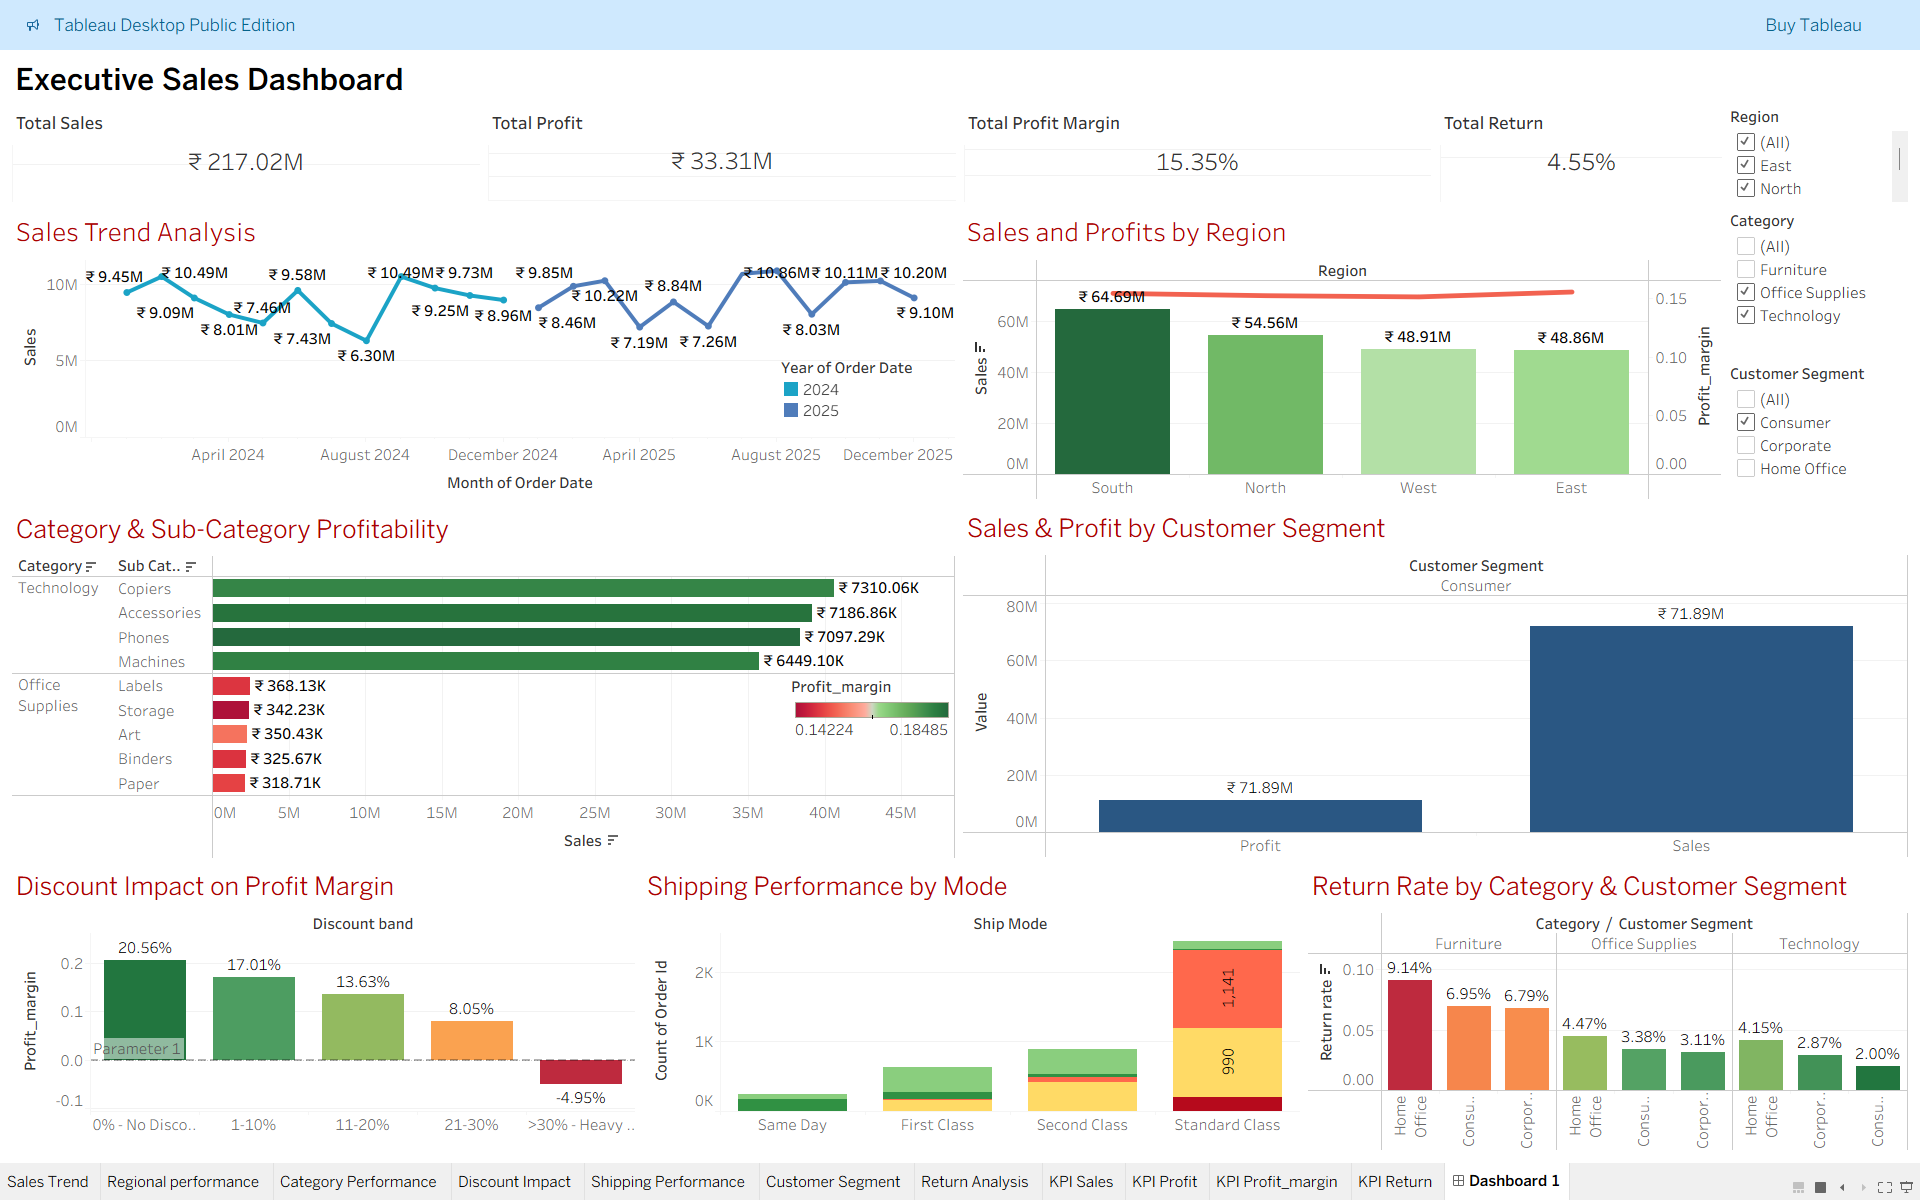

The dashboard page shown, as its layout file describes it:
{"tool":"tableau","page":{"name":"Dashboard 1","canvas":[1000,1000],"units":"permille","ordinal":0},"visuals":[{"type":"title","box":[4.8,8.7,990.3,47.8]},{"type":"worksheet","title":"KPI Sales","mark":"Text","rows":["sales"],"box":[4.8,56.5,247.4,92.6]},{"type":"worksheet","title":"KPI Profit","mark":"Text","rows":["profit"],"box":[252.2,56.5,247.6,92.6]},{"type":"worksheet","title":"KPI Profit_margin","mark":"Text","rows":["Calculation_2249892681052160"],"box":[499.8,56.5,247.6,92.6]},{"type":"worksheet","title":"KPI Return","mark":"Text","rows":["Calculation_2249892693778435"],"box":[747.4,56.5,151.2,92.6]},{"type":"filter","title":"Regional performance","param":"[federated.0f4fcf21ggcj2e115vujo1799w4p].[none:region:nk]","box":[898.6,56.5,96.6,92.6]},{"type":"worksheet","title":"Sales Trend","mark":"Line","rows":["sales"],"cols":["order_date"],"box":[4.8,149.1,494.8,264.9]},{"type":"worksheet","title":"Regional performance","mark":"Line","rows":["sales","Calculation_2249892681052160"],"cols":["region"],"box":[499.7,149.1,398.9,264.4]},{"type":"filter","title":"Category Performance","param":"[federated.0f4fcf21ggcj2e115vujo1799w4p].[none:category:nk]","box":[898.6,149.1,96.6,135.3]},{"type":"legend","title":"Sales Trend","param":"[federated.0f4fcf21ggcj2e115vujo1799w4p].[yr:order_date:ok]","box":[406.8,275.8,89.9,69.5]},{"type":"filter","title":"Customer Segment","param":"[federated.0f4fcf21ggcj2e115vujo1799w4p].[none:customer_segment:nk]","box":[898.6,284.4,96.6,129.2]},{"type":"worksheet","title":"Customer Segment","mark":"Automatic","cols":["customer_segment"],"box":[499.7,413.5,495.5,318.1]},{"type":"worksheet","title":"Category Performance","mark":"Automatic","rows":["category","sub_category"],"cols":["sales"],"box":[4.8,414,494.8,317.6]},{"type":"legend","title":"Category Performance","param":"[federated.0f4fcf21ggcj2e115vujo1799w4p].[usr:Calculation_2249892681052160:qk]","box":[412.2,562.4,84.5,95.5]},{"type":"worksheet","title":"Discount Impact","mark":"Automatic","rows":["Calculation_2249892681052160"],"cols":["Calculation_2249892694355973"],"box":[4.8,731.6,328.2,259.7]},{"type":"worksheet","title":"Shipping Performance","mark":"Automatic","rows":["order_id"],"cols":["ship_mode"],"box":[333,731.6,345.8,259.7]},{"type":"worksheet","title":"Return Analysis","mark":"Automatic","rows":["Calculation_2249892693778435"],"cols":["category","customer_segment"],"box":[678.9,731.6,316.3,259.7]}]}

Visuals, with their boxes on the dashboard's canvas, which has no fixed pixel size, in thousandths of its width and height (x1, y1, x2, y2). These are canvas units, not pixel positions in the 1920x1200 screenshot, which may show the page scaled, cropped or inside an application window:
title: 5:9:995:56
"KPI Sales" worksheet (Text marks): 5:56:252:149
"KPI Profit" worksheet (Text marks): 252:56:500:149
"KPI Profit_margin" worksheet (Text marks): 500:56:747:149
"KPI Return" worksheet (Text marks): 747:56:899:149
"Regional performance" filter: 899:56:995:149
"Sales Trend" worksheet (Line marks): 5:149:500:414
"Regional performance" worksheet (Line marks): 500:149:899:414
"Category Performance" filter: 899:149:995:284
"Sales Trend" legend: 407:276:497:345
"Customer Segment" filter: 899:284:995:414
"Customer Segment" worksheet: 500:414:995:732
"Category Performance" worksheet: 5:414:500:732
"Category Performance" legend: 412:562:497:658
"Discount Impact" worksheet: 5:732:333:991
"Shipping Performance" worksheet: 333:732:679:991
"Return Analysis" worksheet: 679:732:995:991
